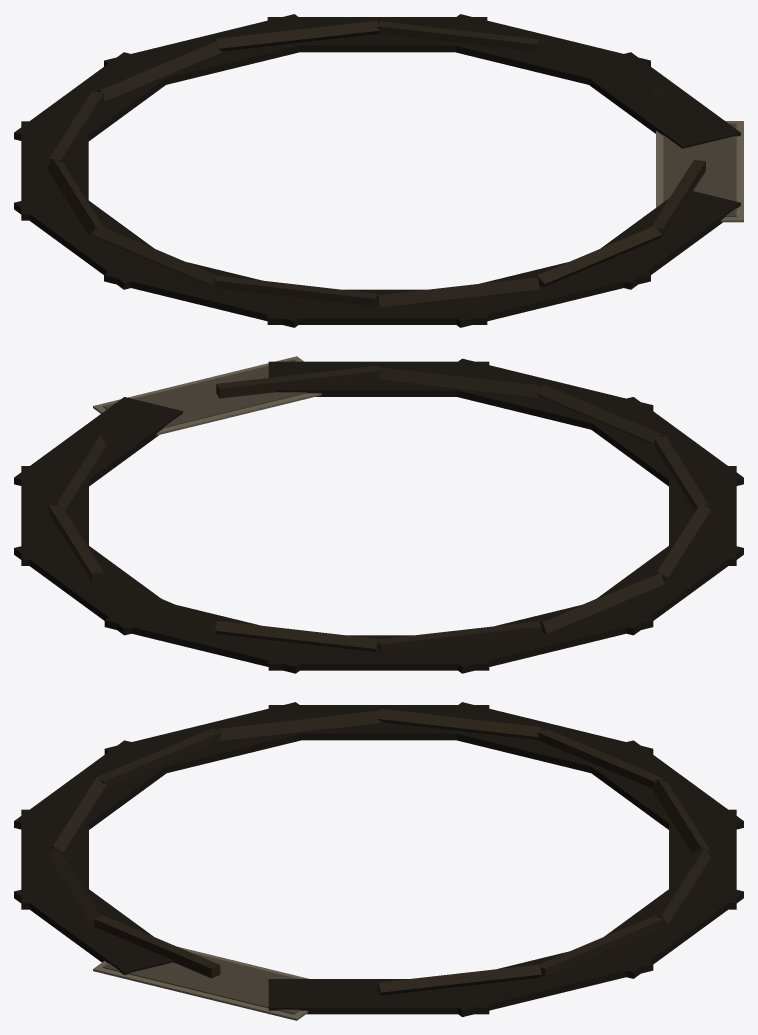
File: s3_linked_arms_eleven.glb
3 views of the same model, one above another, from view 1: azimuth 30°, elevation 25°; view 2: azimuth 150°, elevation 25°; view 3: azimuth 270°, elevation 25° (orthographic).
Visible parts, largest first — view 1: s3_linked_arms_eleven; view 2: s3_linked_arms_eleven; view 3: s3_linked_arms_eleven.
Part boxes in pixels (x1,y1,x2,y2): s3_linked_arms_eleven: (14,14,743,327); s3_linked_arms_eleven: (14,356,743,673); s3_linked_arms_eleven: (14,702,743,1020).
Size of the model in its own units: 5.04 by 0.123 by 4.96.
